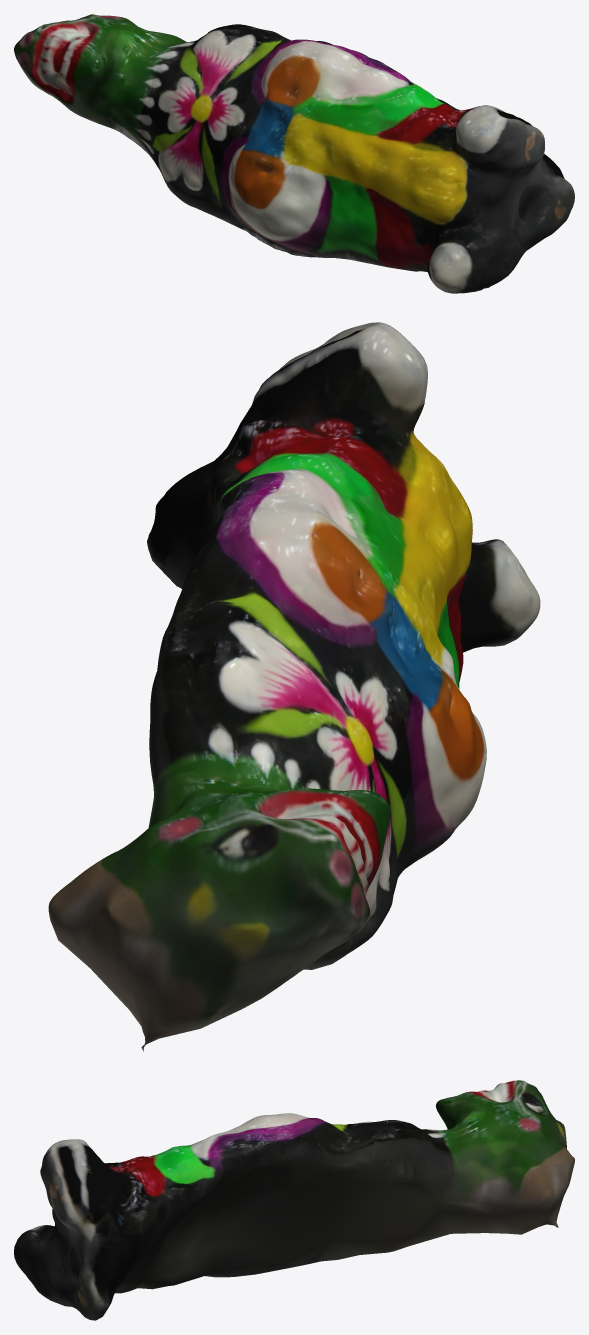
3 views of the same model, one above another, from view 1: azimuth 30°, elevation 25°; view 2: azimuth 150°, elevation 25°; view 3: azimuth 270°, elevation 25° (orthographic). The views are drawn at different scales.
Bounding box in the file's own units: 0.5638 × 0.3075 × 0.8645.
1 material, 1 textured.
